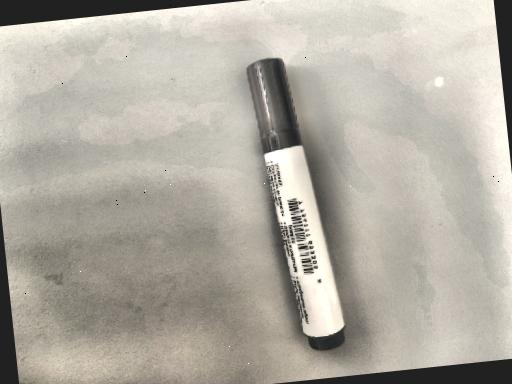marcador negro: (246, 58, 344, 350)
